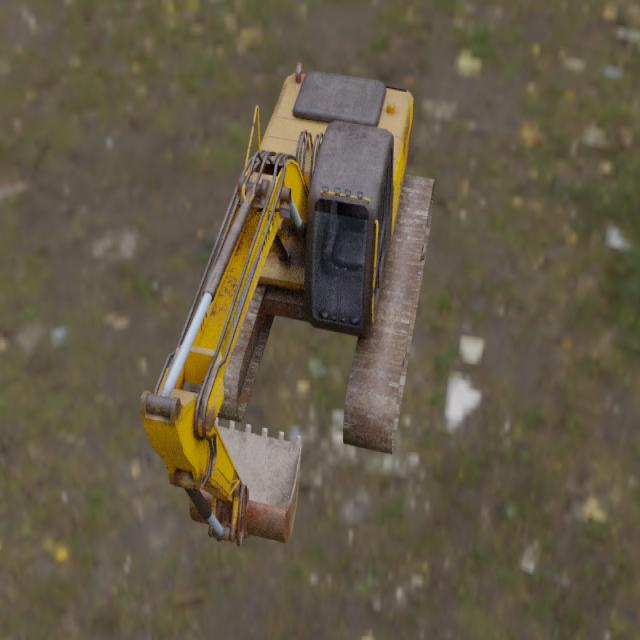excavator: (140, 61, 435, 547)
